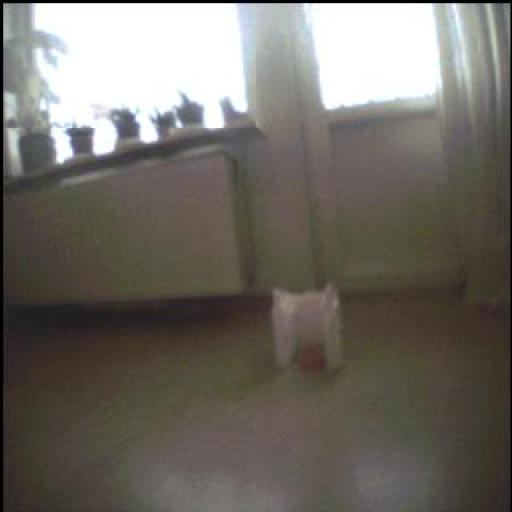Basket: (301, 344, 328, 370)
